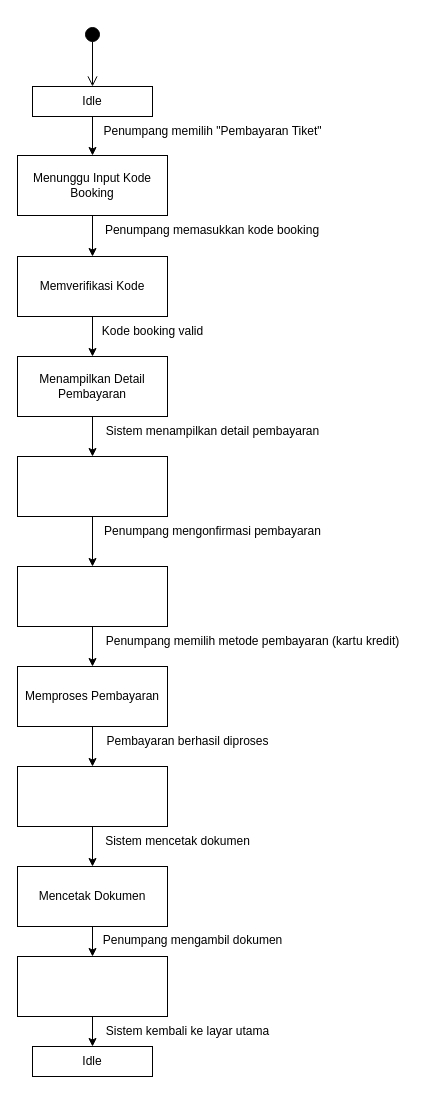
The diagram is 430 pixels wide and 1094 high, and some of its shapes have lost their labels. Each missing label, with the box of its shape:
Menampilkan Opsi Pembayaran: (16, 566, 168, 626)
Menunggu Konfirmasi: (16, 456, 168, 516)
Selesai: (16, 956, 168, 1016)
Transaksi Berhasil: (16, 766, 168, 826)
